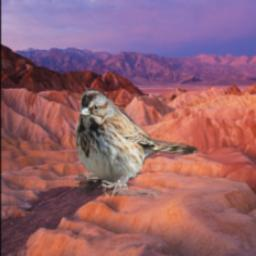Sparrow: (76, 88, 199, 196)
